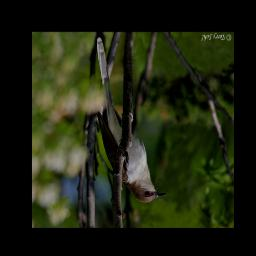Cuckoo: (96, 35, 168, 205)
